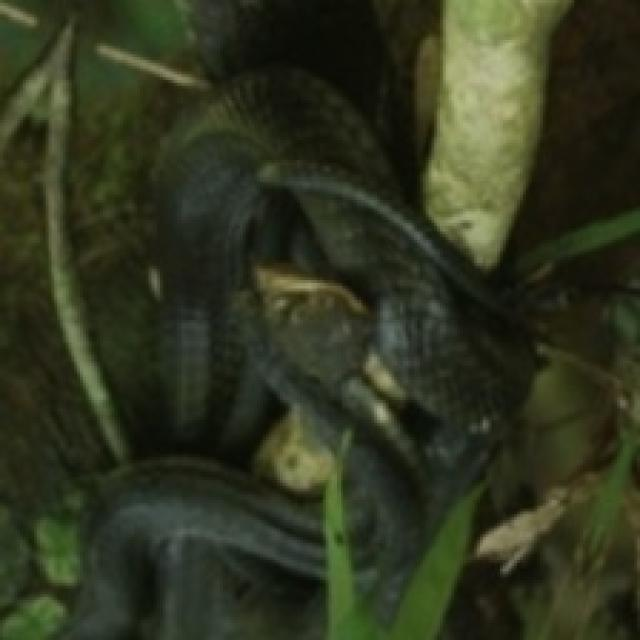king cobra: (69, 0, 535, 639)
